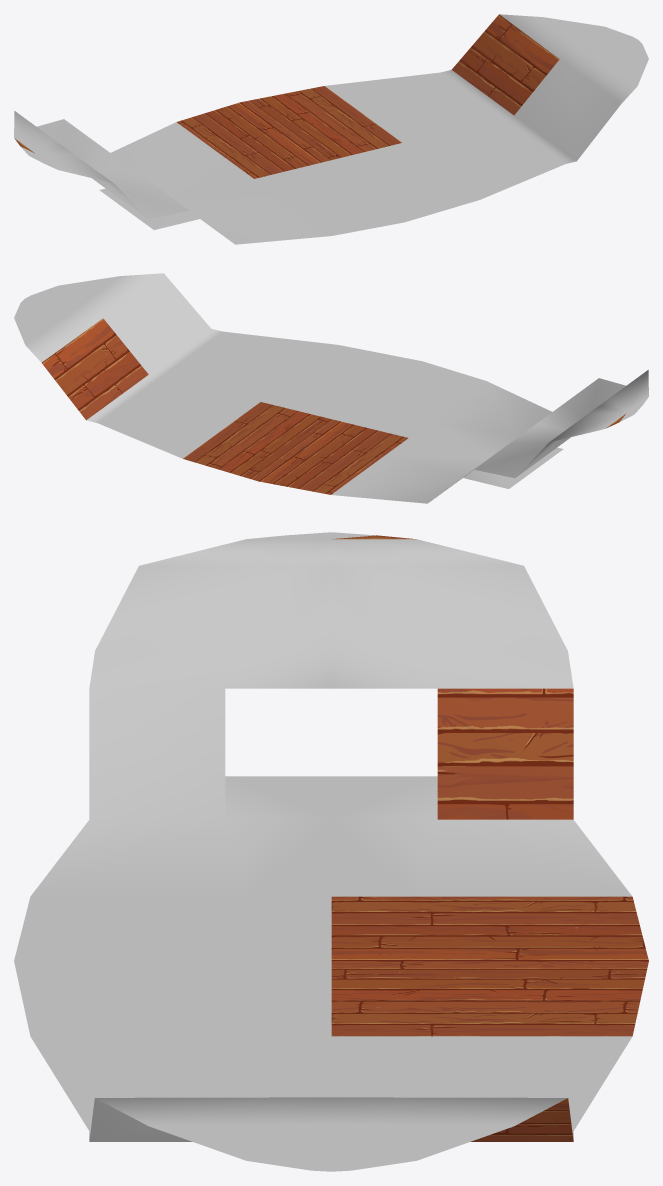
Rendered from Bridge.fbx.
3 views of the same model, one above another, from view 1: azimuth 30°, elevation 25°; view 2: azimuth 150°, elevation 25°; view 3: azimuth 270°, elevation 25° (orthographic). The views are drawn at different scales.
Parts seen in each view (by area): view 1: polySurface105; view 2: polySurface105; view 3: polySurface105.
Part boxes in pixels (box(x1,y1,x2,y2)): polySurface105: box(14, 14, 648, 244); polySurface105: box(14, 273, 648, 503); polySurface105: box(14, 532, 648, 1171).
Size of the model in its own units: 57.26 by 7.03 by 26.7.
